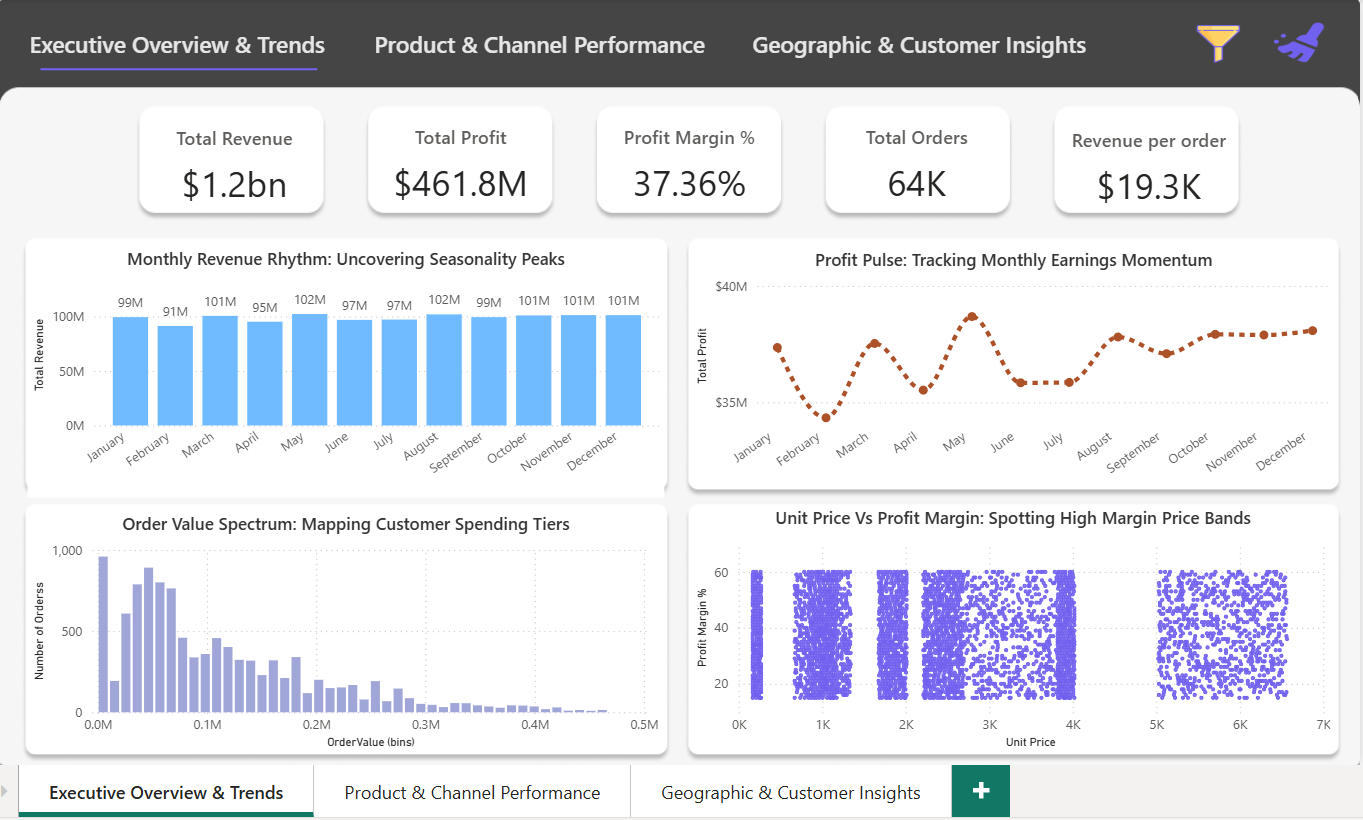

This screenshot's page, from the dashboard's own definition file:
{"tool":"powerbi","page":{"name":"Executive Overview & Trends","canvas":[1280,720],"ordinal":0},"visuals":[{"type":"cardVisual","fields":{"Data":["Measures_.Total Revenue"]},"box":[142,101,158,104],"z":0},{"type":"cardVisual","fields":{"Data":["Measures_.Total Profit"]},"box":[350,100,169.2,103.8],"z":1000},{"type":"cardVisual","fields":{"Data":["Measures_.Profit Margin %"]},"box":[553.3,100,193.8,103.2],"z":2000},{"type":"cardVisual","fields":{"Data":["Measures_.Total Orders"]},"box":[787.2,100,152.6,103.8],"z":3000},{"type":"cardVisual","fields":{"Data":["Measures_.Revenue per order"]},"box":[987.8,103.2,186,103.2],"z":4000},{"type":"columnChart","title":"Monthly Revenue Rhythm: Uncovering Seasonality Peaks","fields":{"Category":["Sales_data.order_month_name"],"Y":["Measures_.Total Revenue"]},"box":[26.9,233.3,598.7,235.9],"z":5000},{"type":"lineChart","title":"Profit Pulse: Tracking Monthly Earnings Momentum","fields":{"Category":["Sales_data.order_month_name"],"Y":["Measures_.Total Profit"]},"box":[650,234.6,607.7,234.6],"z":6000},{"type":"scatterChart","title":"Unit Price Vs Profit Margin: Spotting High Margin Price Bands","fields":{"X":["Sales_data.unit_price"],"Y":["Sales_data.profit_margin_pct"]},"box":[650,476.9,606.4,232.1],"z":7000},{"type":"columnChart","title":"Order Value Spectrum: Mapping Customer Spending Tiers","fields":{"Category":["Order_Value_Distribution.OrderValue (bins)"],"Y":["CountNonNull(Order_Value_Distribution.order_number)"]},"box":[26.9,482.1,598.7,226.9],"z":8000},{"type":"actionButton","box":[337.2,14.1,342.3,55.1],"z":10000},{"type":"actionButton","box":[9,14.1,317.9,55.1],"z":11000},{"type":"actionButton","box":[693.8,13.8,342.5,55],"z":12000},{"type":"actionButton","box":[1188,14,70,55],"z":14000},{"type":"actionButton","box":[1120,21,53,42],"z":14500}]}

Visuals, with their boxes on the page's 1280x720 design canvas (x1, y1, x2, y2). These are canvas units, not pixel positions in the 1363x820 screenshot, which may show the page scaled, cropped or inside an application window:
cardVisual - Measures_.Total Revenue: bbox=(142, 101, 300, 205)
cardVisual - Measures_.Total Profit: bbox=(350, 100, 519, 204)
cardVisual - Measures_.Profit Margin %: bbox=(553, 100, 747, 203)
cardVisual - Measures_.Total Orders: bbox=(787, 100, 940, 204)
cardVisual - Measures_.Revenue per order: bbox=(988, 103, 1174, 206)
"Monthly Revenue Rhythm: Uncovering Seasonality Peaks" columnChart: bbox=(27, 233, 626, 469)
"Profit Pulse: Tracking Monthly Earnings Momentum" lineChart: bbox=(650, 235, 1258, 469)
"Unit Price Vs Profit Margin: Spotting High Margin Price Bands" scatterChart: bbox=(650, 477, 1256, 709)
"Order Value Spectrum: Mapping Customer Spending Tiers" columnChart: bbox=(27, 482, 626, 709)
actionButton: bbox=(337, 14, 680, 69)
actionButton: bbox=(9, 14, 327, 69)
actionButton: bbox=(694, 14, 1036, 69)
actionButton: bbox=(1188, 14, 1258, 69)
actionButton: bbox=(1120, 21, 1173, 63)
